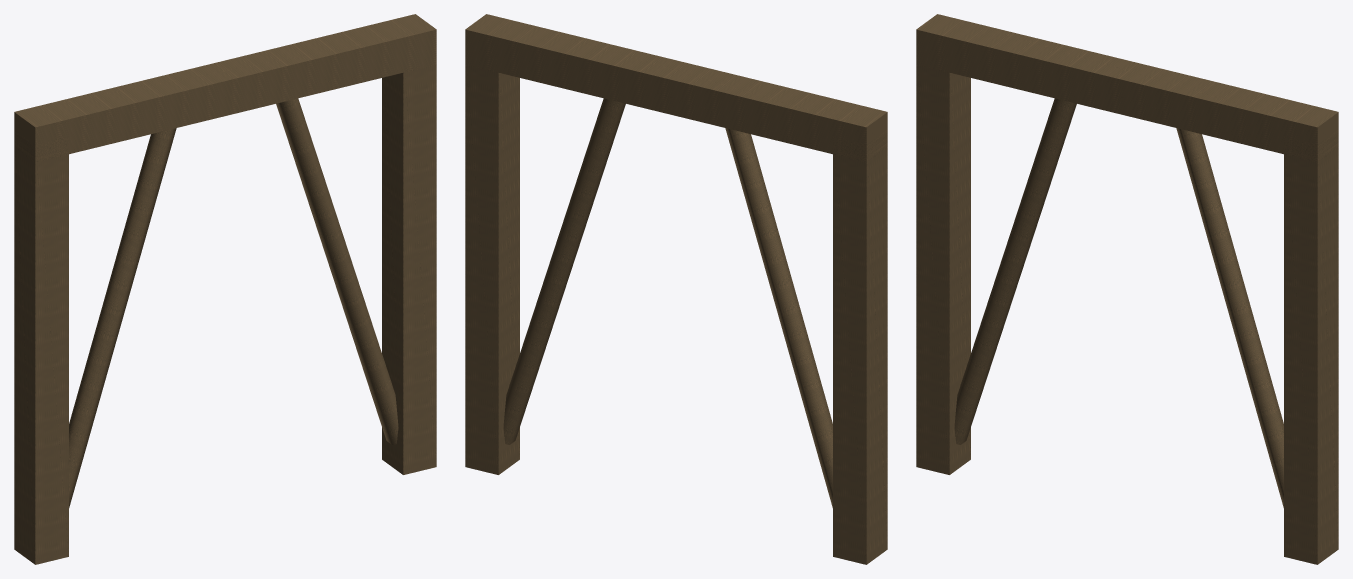
Rendered from timber-brace.glb.
The picture shows the model from 3 angles, left to right: view 1: azimuth 30°, elevation 25°; view 2: azimuth 150°, elevation 25°; view 3: azimuth 330°, elevation 25°; orthographic projection.
Visible parts, largest first — view 1: LOD0; view 2: LOD0; view 3: LOD0.
Boxes of the visible parts, <box> form: LOD0: <box>14,14,436,564</box>; LOD0: <box>465,14,887,564</box>; LOD0: <box>916,14,1338,564</box>.
Size of the model in its own units: 2.4 by 2.5 by 0.22.
Materials: 1 (1 with a texture image).
